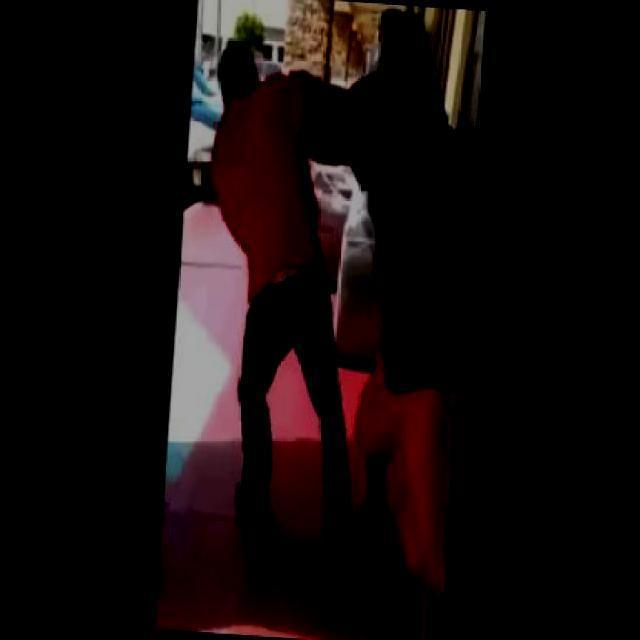fight: (206, 0, 447, 585)
